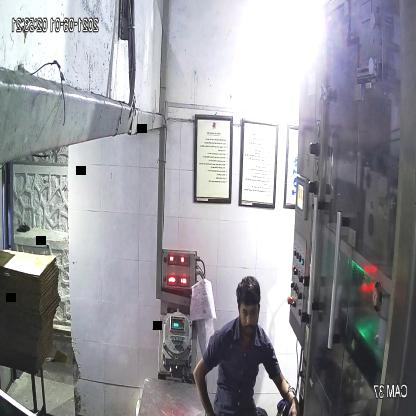no_goggles: (236, 302, 262, 323)
